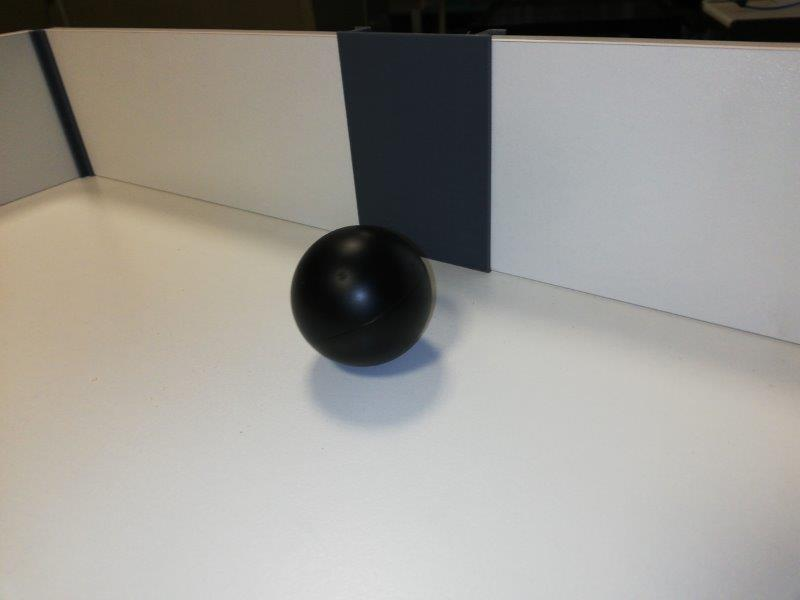nera: (288, 226, 433, 366)
